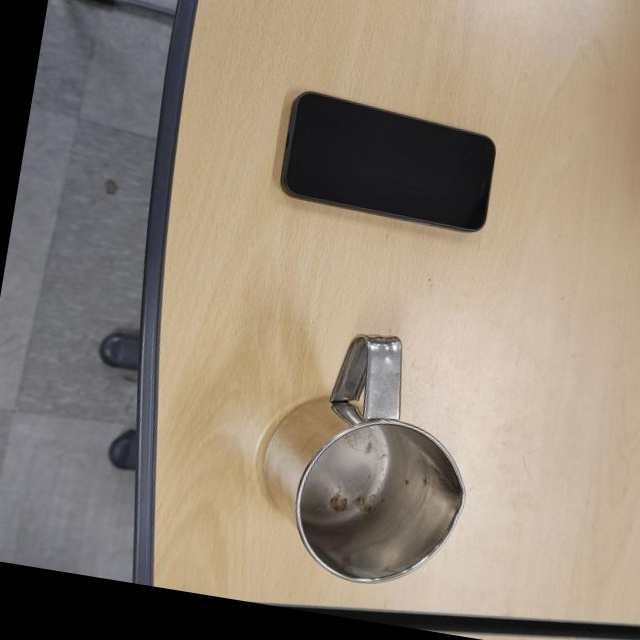cup: (245, 318, 493, 601)
phone: (275, 86, 505, 239)
